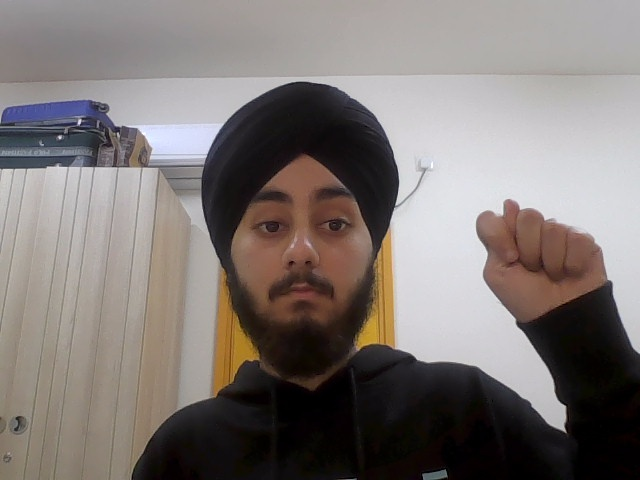Bathroom: (466, 193, 620, 311)
